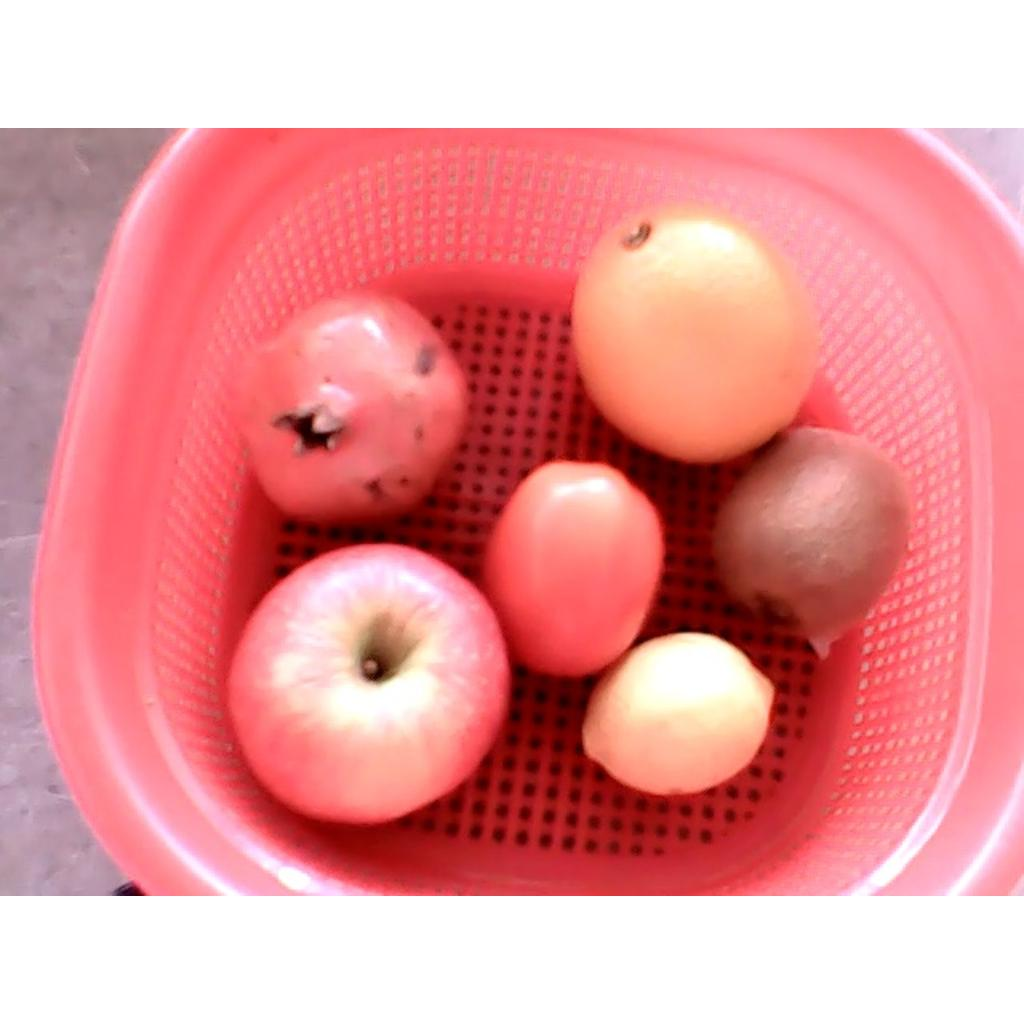apple: (229, 544, 511, 822)
kiwi: (708, 425, 910, 638)
lemon: (577, 631, 777, 796)
orange: (566, 201, 823, 463)
pomegranate: (235, 293, 465, 524)
tomato: (480, 459, 664, 678)
